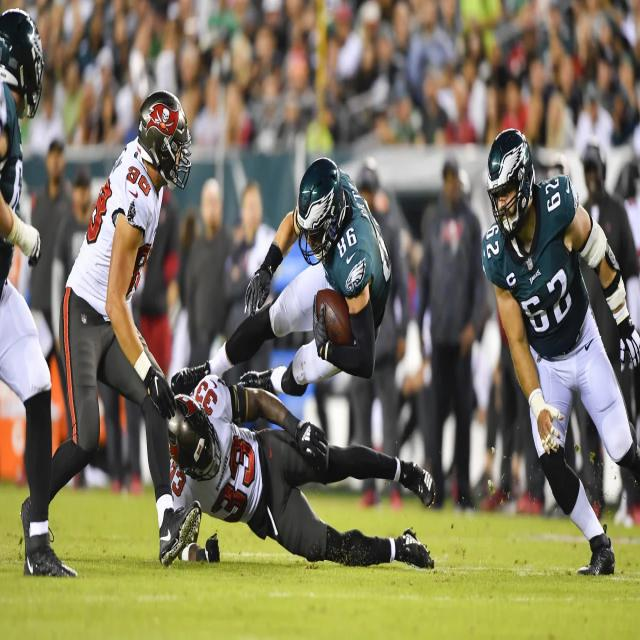football: (315, 288, 357, 352)
players: (21, 95, 192, 567), (477, 127, 640, 575), (161, 372, 435, 570), (172, 158, 392, 400), (0, 10, 79, 577)
